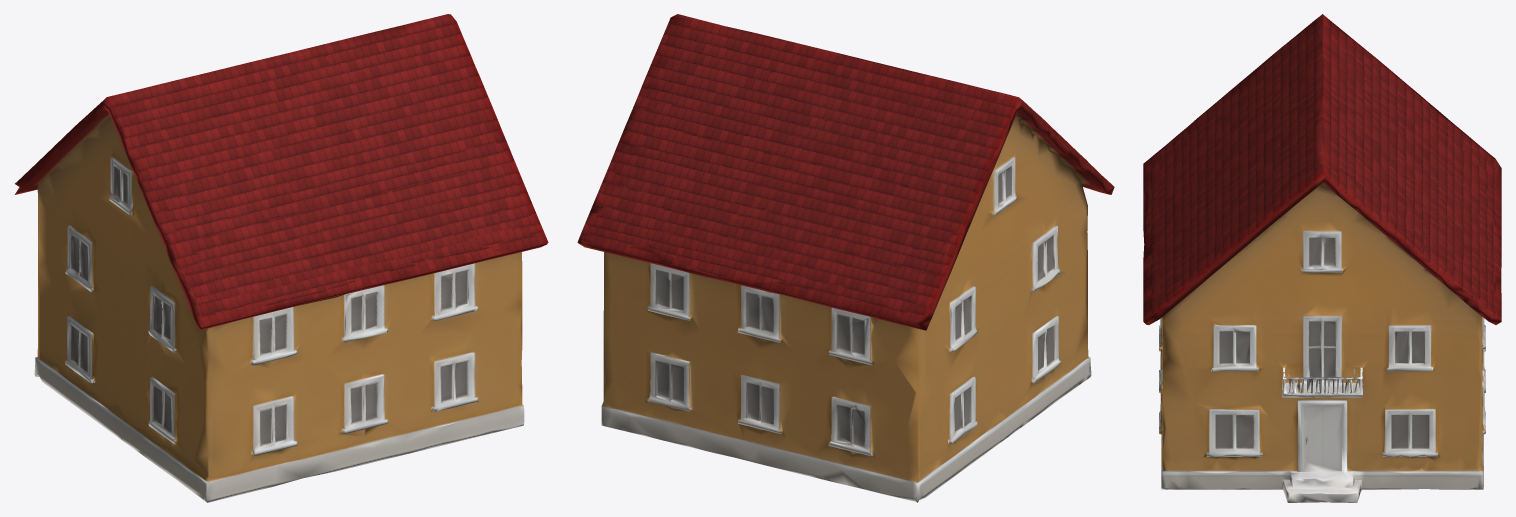
Rendered from plain_house_tripo.glb.
3 renders of one model, left to right at view 1: azimuth 30°, elevation 25°; view 2: azimuth 150°, elevation 25°; view 3: azimuth 270°, elevation 25°, orthographic. The views are drawn at different scales.
Visible parts, largest first — view 1: tripo_node_2316df93-e154-4cf4-af7c-0d45cd53c551; view 2: tripo_node_2316df93-e154-4cf4-af7c-0d45cd53c551; view 3: tripo_node_2316df93-e154-4cf4-af7c-0d45cd53c551.
Boxes of the visible parts, box(x1,y1,x2,y2) form: tripo_node_2316df93-e154-4cf4-af7c-0d45cd53c551: box(15, 14, 548, 502); tripo_node_2316df93-e154-4cf4-af7c-0d45cd53c551: box(577, 14, 1114, 502); tripo_node_2316df93-e154-4cf4-af7c-0d45cd53c551: box(1143, 14, 1501, 502).
Bounding box in the file's own units: 0.98 × 0.8988 × 0.9001.
1 material, 1 textured.
